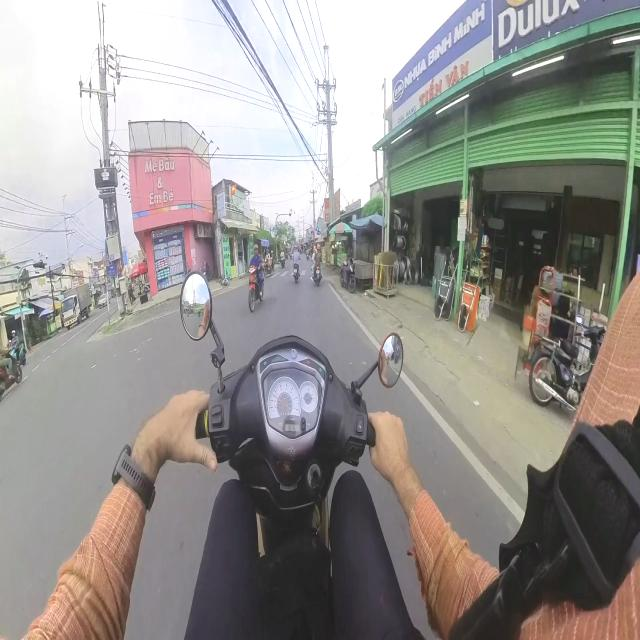motorcycle: (196, 318, 402, 597), (529, 326, 605, 410), (0, 354, 22, 400), (249, 265, 263, 312), (340, 257, 355, 293), (313, 263, 321, 286), (293, 263, 299, 283), (280, 254, 285, 269)
